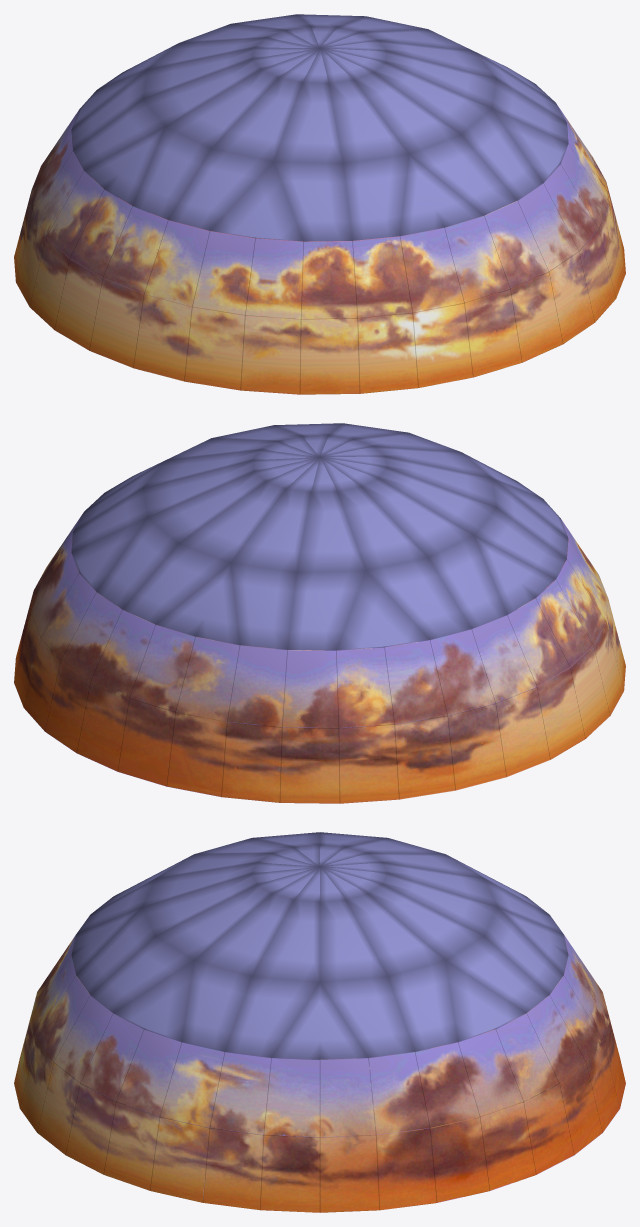
Rendered from arena_skybox.glb.
3 views of the same model, one above another, from view 1: azimuth 30°, elevation 25°; view 2: azimuth 150°, elevation 25°; view 3: azimuth 270°, elevation 25° (orthographic).
Parts seen in each view (by area): view 1: T1L1M003_12; view 2: T1L1M003_12; view 3: T1L1M003_12.
Part boxes in pixels (bbox=[...]): T1L1M003_12: bbox=[14, 14, 625, 394]; T1L1M003_12: bbox=[14, 423, 625, 803]; T1L1M003_12: bbox=[14, 832, 625, 1212].
Size of the model in its own units: 4.09 by 1.6 by 4.09.
1 material, 1 textured.
